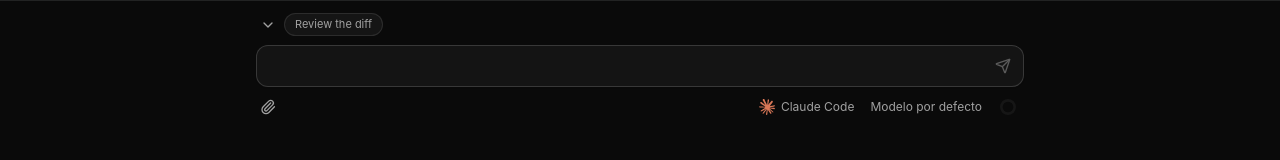
Scenario: Composer - showing and hiding the saved orders › folds them on a click, and says so in the store and on the button
The image size is (1280, 160).
Click the button named "Ocultar los mensajes rápidos" at (268, 25), box 256,13 -> 280,37
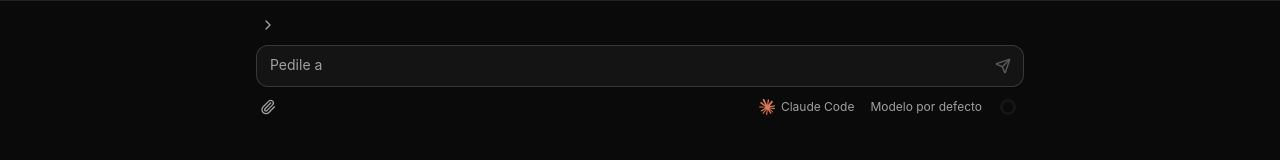
Expected: the button named "Mostrar los mensajes rápidos" is collapsed, 256,13 -> 280,37
